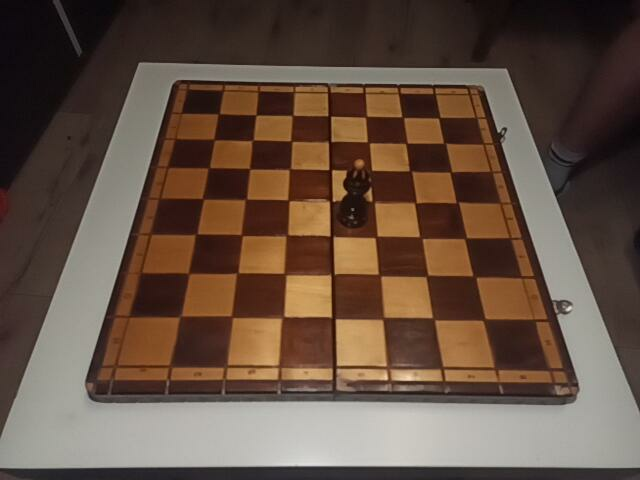B-Bishop: (338, 159, 372, 229)
